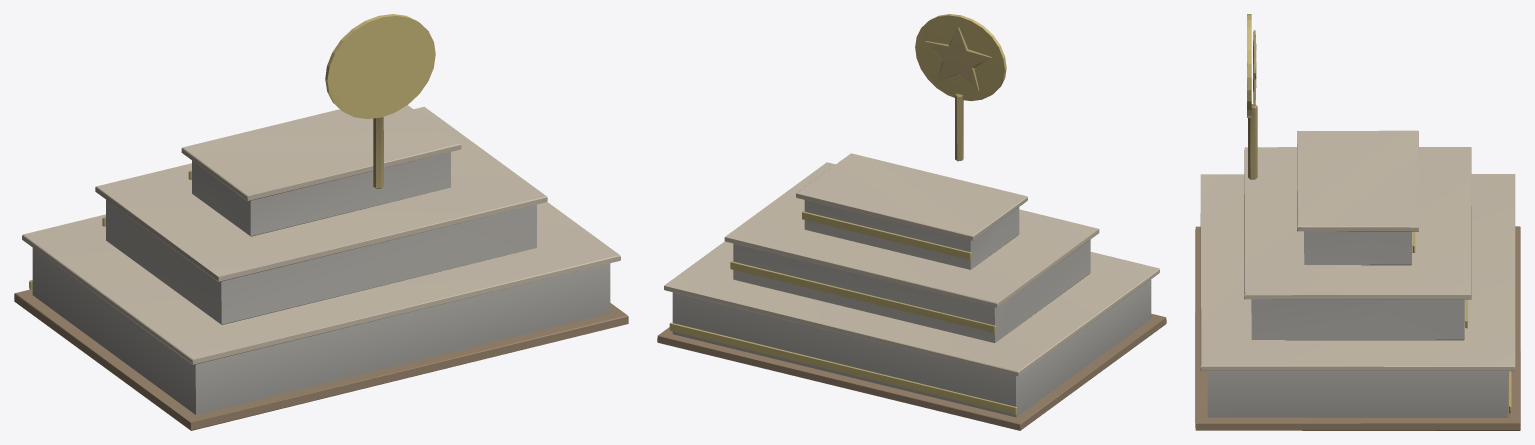
File: mall_today_table_low.glb
The picture shows the model from 3 angles, left to right: view 1: azimuth 30°, elevation 25°; view 2: azimuth 150°, elevation 25°; view 3: azimuth 270°, elevation 25°; orthographic projection. The views are drawn at different scales.
Parts seen in each view (by area): view 1: mall.today_table; view 2: mall.today_table; view 3: mall.today_table.
Part boxes in pixels (x1=…): mall.today_table: x1=14, y1=14, x2=628, y2=430; mall.today_table: x1=657, y1=14, x2=1166, y2=430; mall.today_table: x1=1195, y1=14, x2=1520, y2=430.
Bounding box in the file's own units: 3.45 × 2.56 × 2.41.
